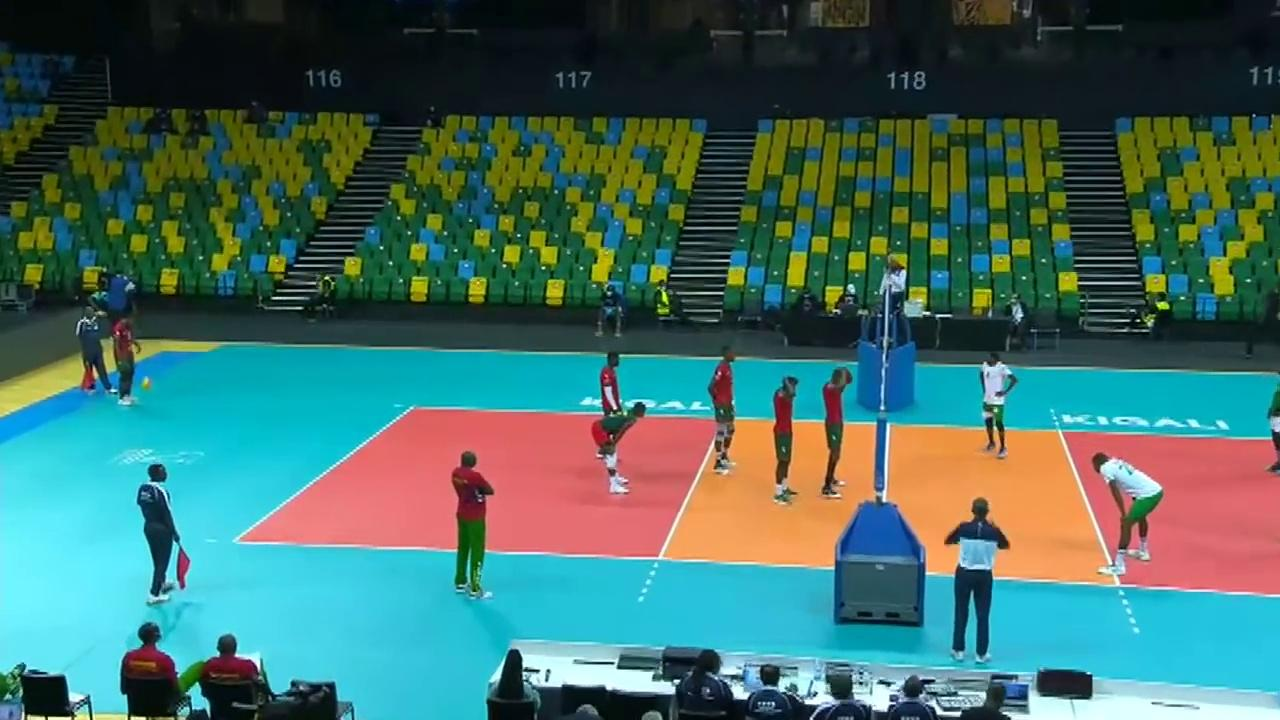player: (1092, 454, 1166, 572), (583, 401, 647, 496), (583, 343, 627, 461), (822, 367, 859, 496), (707, 348, 742, 475), (770, 374, 802, 499), (981, 354, 1016, 458), (108, 310, 142, 405)
refree: (947, 492, 1010, 667), (143, 464, 194, 598), (77, 306, 110, 398), (881, 247, 911, 339)
